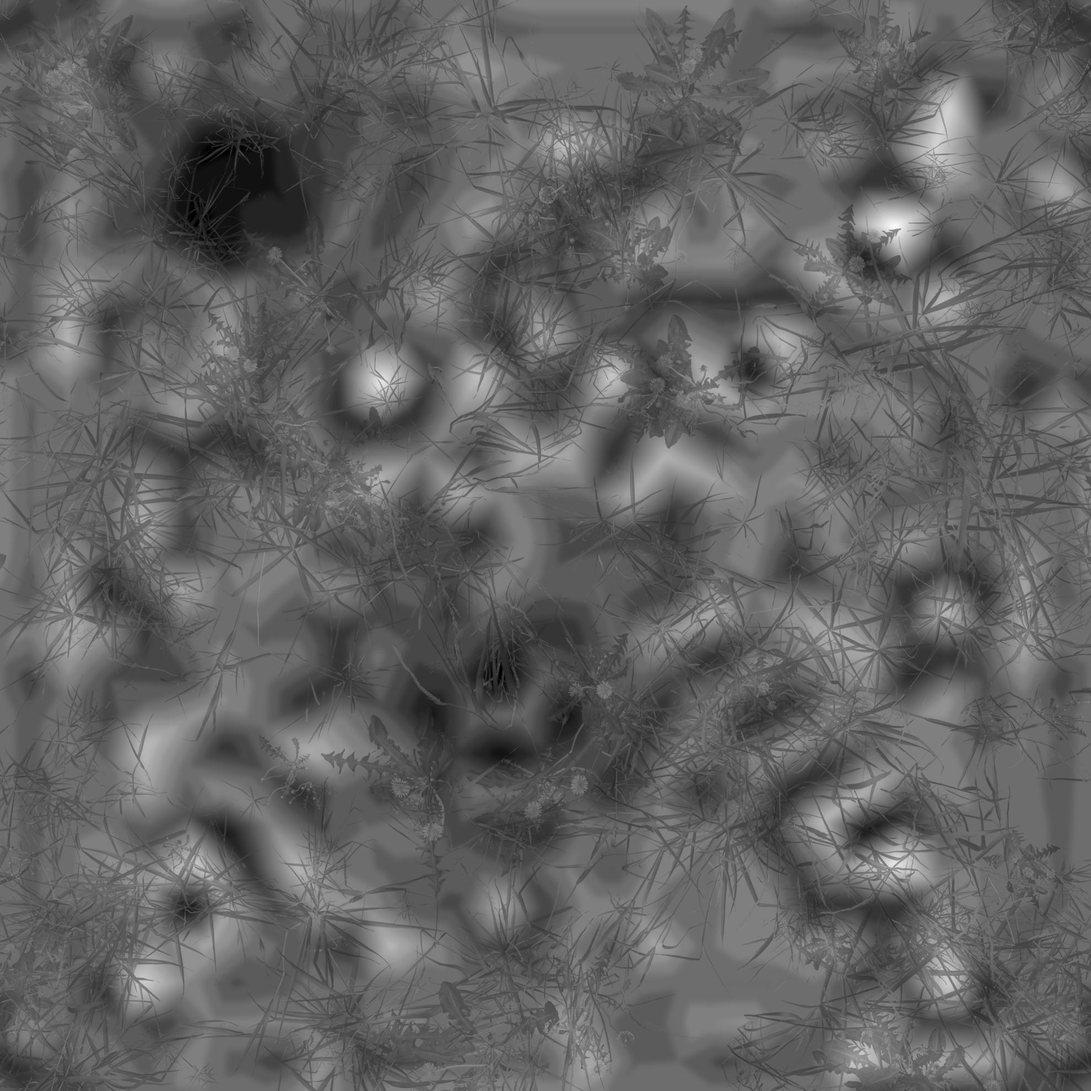landmine: (418, 620, 580, 778), (160, 121, 294, 273)
